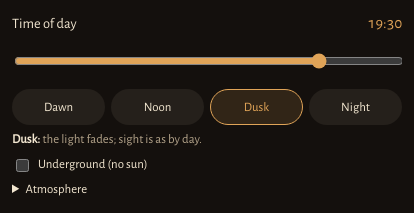
the time of day › offers quick picks as a radio group that send their hours
This screenshot has width=414, height=213.
Expected: the element named "Quick times" is shown, [12, 89, 402, 125]
Expected: the text "Dusk:" is shown, [12, 133, 40, 146]
Click the radio button labelled "Night" at point(356, 107), box [309, 89, 402, 125]
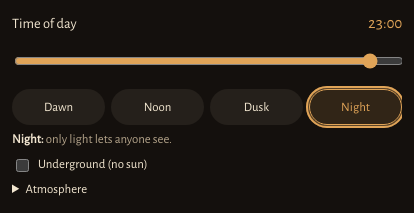
Expected: the text "Night:" is shown, [12, 133, 44, 146]
